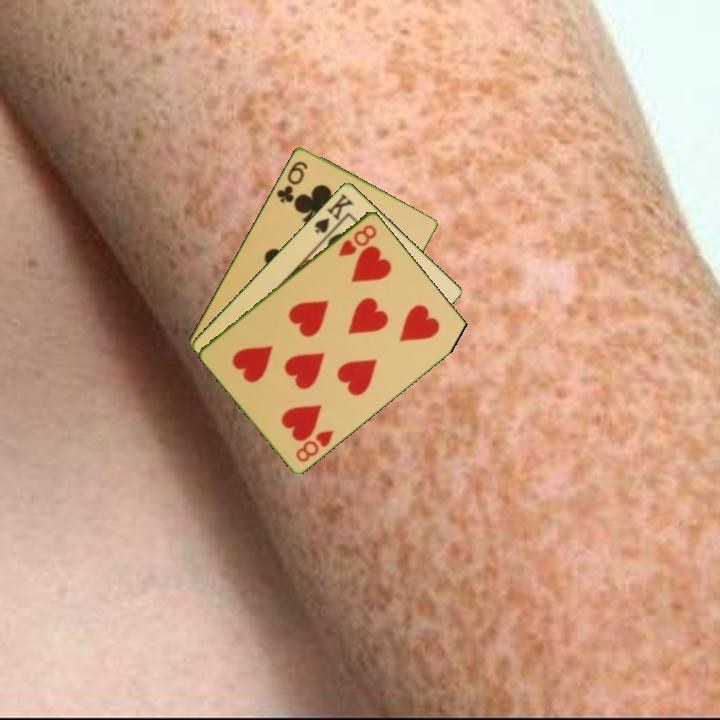6c: (273, 157, 310, 205)
8h: (335, 220, 380, 259), (292, 426, 337, 465)
Ks: (311, 189, 357, 241)
